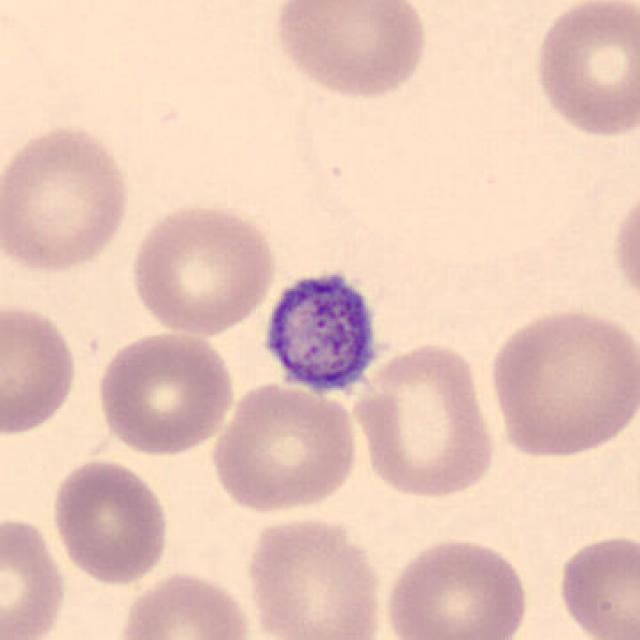Platelets: (256, 261, 391, 402)
RBC: (347, 338, 501, 502), (484, 303, 638, 462), (206, 377, 361, 517), (125, 198, 279, 338), (0, 120, 137, 277), (92, 326, 238, 458), (242, 511, 388, 640), (270, 0, 432, 102), (381, 532, 534, 640), (48, 455, 172, 587), (528, 0, 638, 141), (0, 298, 82, 437), (114, 567, 258, 640), (553, 529, 638, 640), (0, 511, 69, 638), (608, 178, 640, 317)
